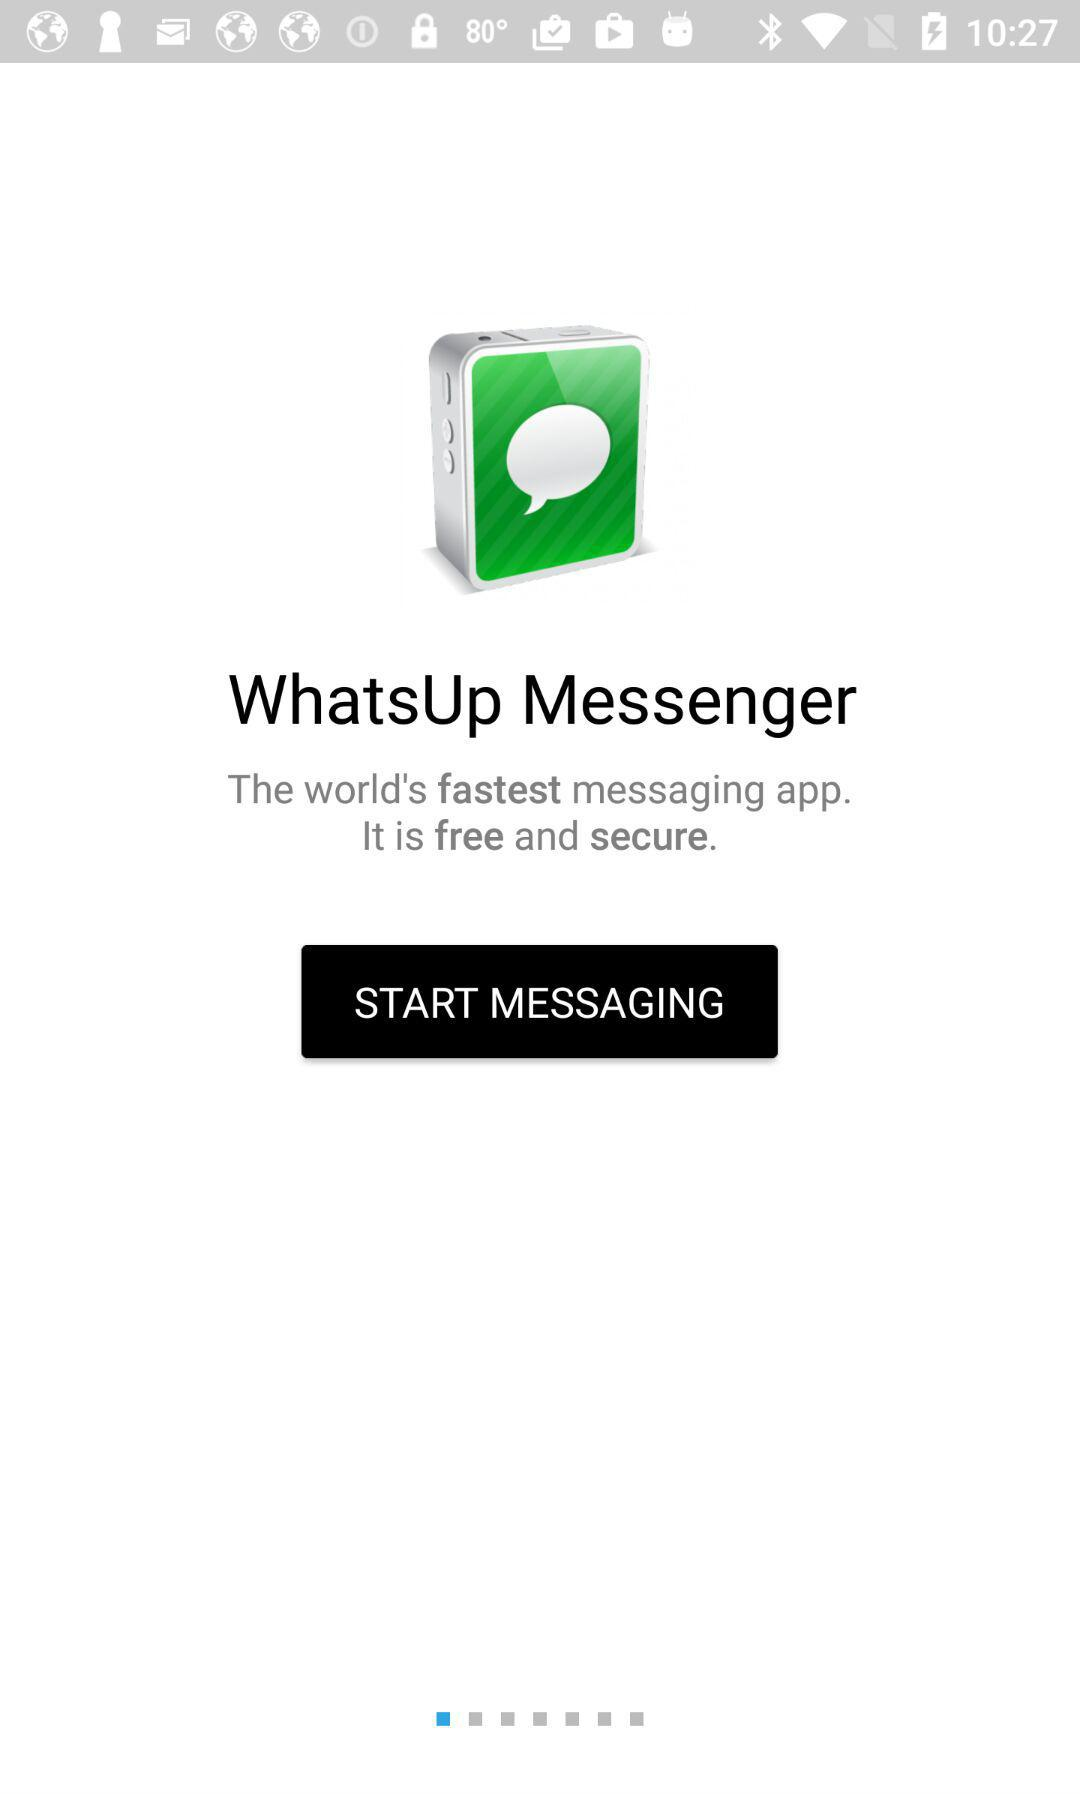Image: (421, 324, 657, 595)
PageIndicator: (436, 1711, 646, 1727)
Text: (228, 771, 851, 852), (229, 671, 858, 739)
TextButton: (301, 944, 779, 1058)
UpperTaskBar: (1, 1, 1080, 64)
